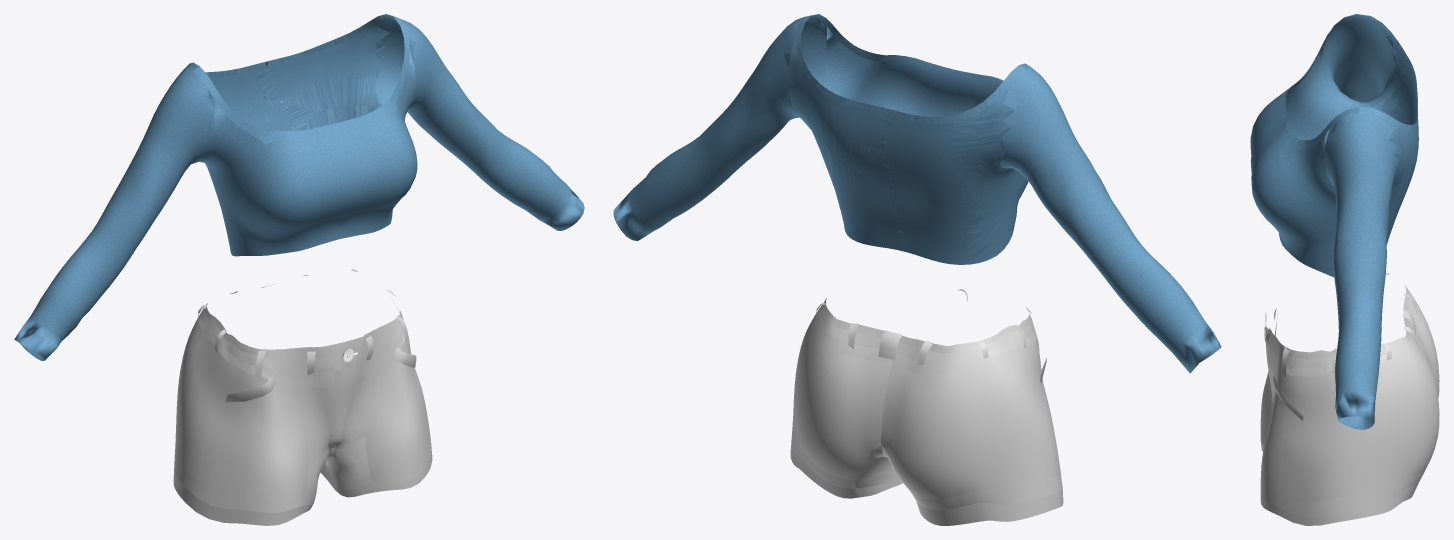
The model's file is crop_top_booty_shorts.glb.
3 renders of one model, left to right at view 1: azimuth 30°, elevation 25°; view 2: azimuth 150°, elevation 25°; view 3: azimuth 270°, elevation 25°, orthographic. The views are drawn at different scales.
Parts seen in each view (by area): view 1: all, all_two; view 2: all, all_two; view 3: all, all_two.
Boxes of the visible parts, x1,y1,x2,y2 form: all: (14,14,584,360); all_two: (173,268,432,525); all: (613,14,1221,373); all_two: (790,289,1063,525); all: (1250,14,1418,429); all_two: (1260,273,1439,525).
Size of the model in its own units: 0.7276 by 0.5354 by 0.216.
Materials: 1 (1 with a texture image).
